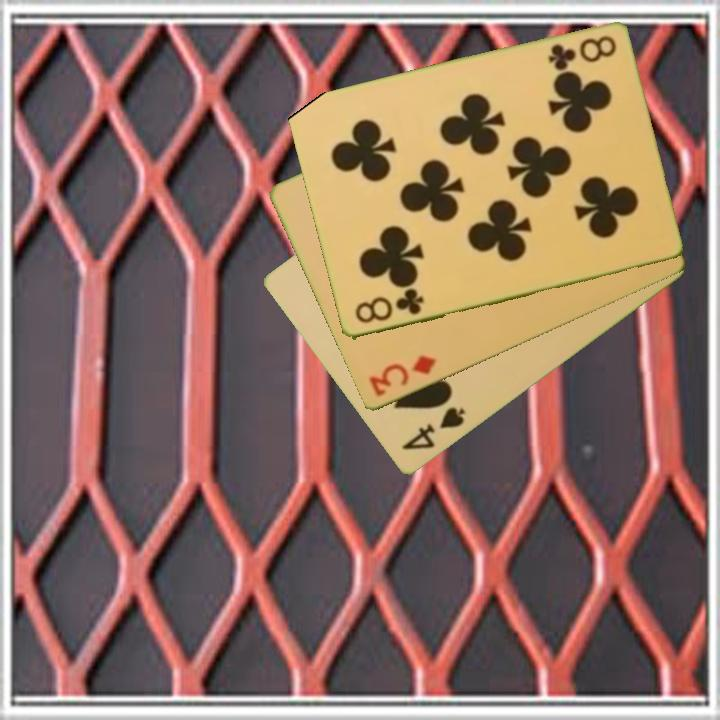3d: (364, 351, 440, 400)
4s: (398, 403, 468, 454)
8c: (351, 286, 426, 327), (544, 32, 619, 73)
